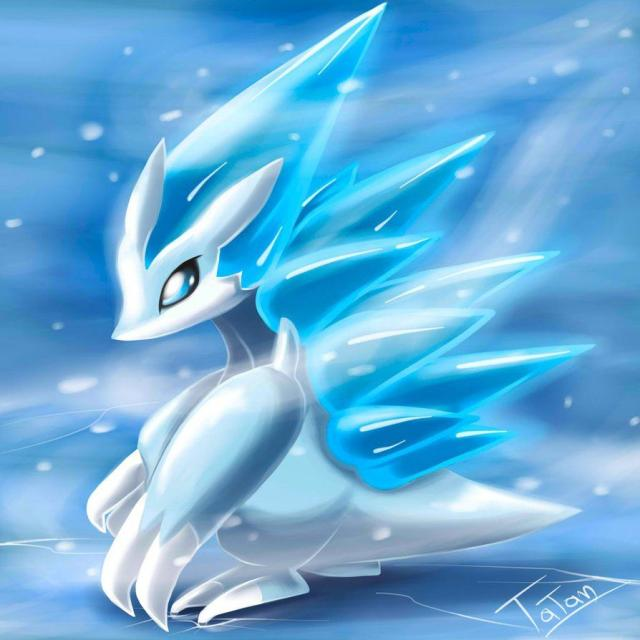Alolan: (88, 8, 515, 600)
